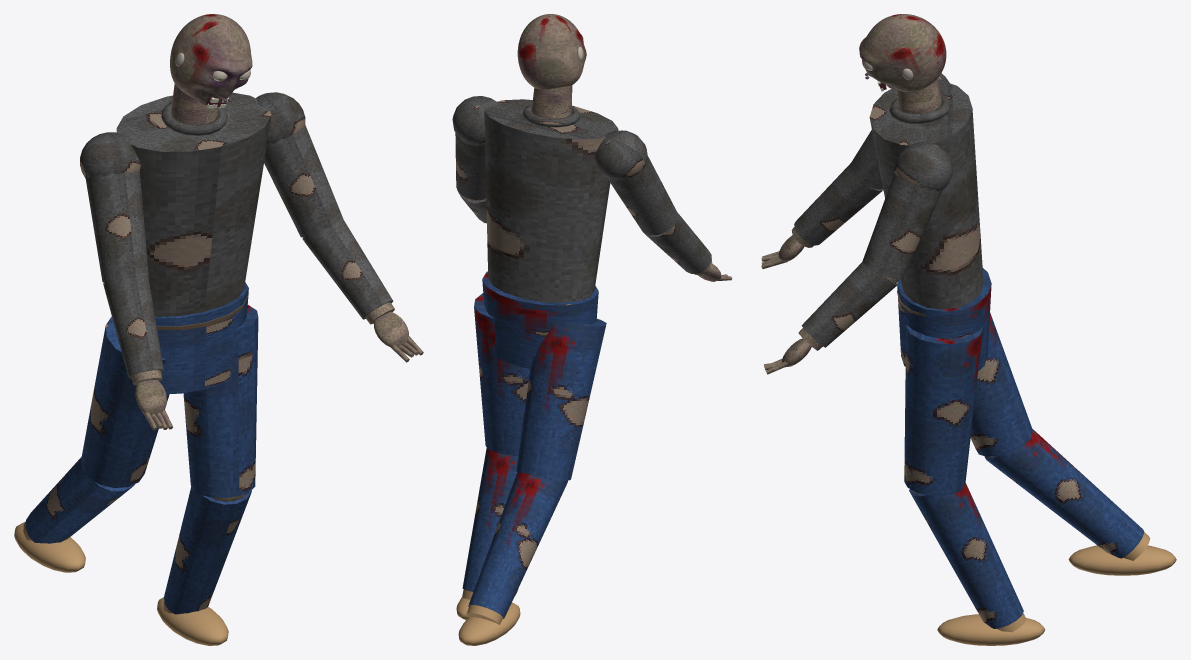
The model's file is Zombie_014.glb.
The picture shows the model from 3 angles, left to right: view 1: azimuth 30°, elevation 25°; view 2: azimuth 150°, elevation 25°; view 3: azimuth 270°, elevation 25°; orthographic projection. The views are drawn at different scales.
Visible parts, largest first — view 1: Zombie_014, object 18, object 4, object 12, object 13, object 5; view 2: Zombie_014, object 18, object 4; view 3: Zombie_014, object 18, object 12, object 4.
Boxes of the visible parts, x1,y1,x2,y2 form: Zombie_014: (14, 83, 343, 645); object 18: (170, 14, 252, 104); object 4: (103, 276, 163, 378); object 12: (302, 220, 393, 319); object 13: (373, 312, 408, 347); object 5: (135, 380, 166, 415); Zombie_014: (452, 85, 677, 645); object 18: (517, 14, 586, 89); object 4: (644, 212, 711, 273); Zombie_014: (849, 73, 1176, 645); object 18: (859, 14, 946, 92); object 12: (801, 262, 897, 347); object 4: (794, 163, 883, 245).
Size of the model in its own units: 0.8608 by 1.98 by 1.21.
15 materials, 5 textured.
